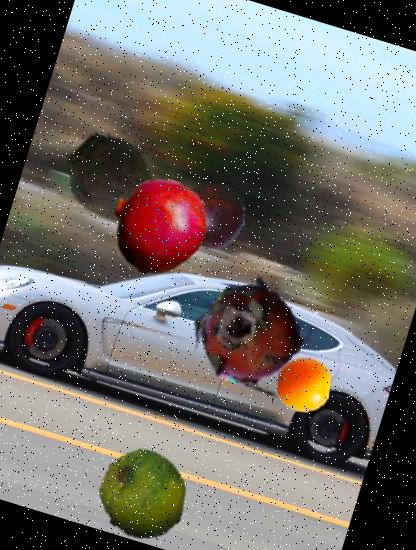Beetroot: (40, 109, 206, 275)
Cherry: (270, 351, 336, 418)
Chestnut: (164, 171, 253, 260)
Limes: (87, 438, 199, 550)
Pitahaya: (181, 263, 318, 400)
Pomegranate: (98, 166, 220, 288)
